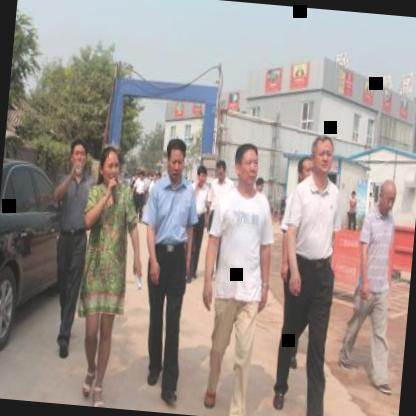head: (231, 138, 262, 192), (306, 130, 338, 180), (96, 141, 124, 191), (162, 134, 190, 184), (375, 174, 400, 218), (66, 136, 91, 176), (192, 161, 209, 187), (214, 158, 229, 184)
